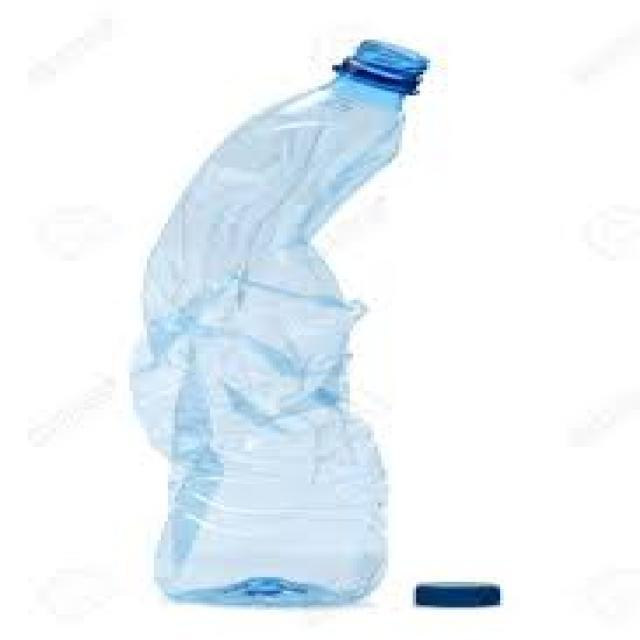bottle: (122, 28, 504, 606)
